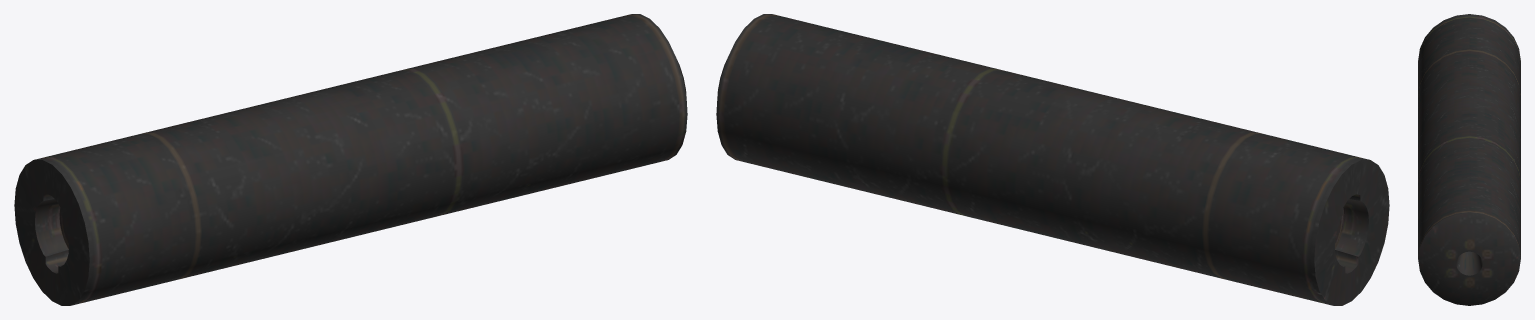
The model's file is ST_Muzzle_Suppressor_M.FBX.
3 renders of one model, left to right at view 1: azimuth 30°, elevation 25°; view 2: azimuth 150°, elevation 25°; view 3: azimuth 270°, elevation 25°, orthographic. The views are drawn at different scales.
Parts seen in each view (by area): view 1: ST_Muzzle_Suppressor_M; view 2: ST_Muzzle_Suppressor_M; view 3: ST_Muzzle_Suppressor_M.
Boxes of the visible parts, bbox=[...] form: ST_Muzzle_Suppressor_M: bbox=[14, 14, 687, 305]; ST_Muzzle_Suppressor_M: bbox=[716, 14, 1389, 305]; ST_Muzzle_Suppressor_M: bbox=[1418, 14, 1520, 305].
Size of the model in its own units: 17.85 by 3.81 by 3.81.
1 material, 1 textured.
